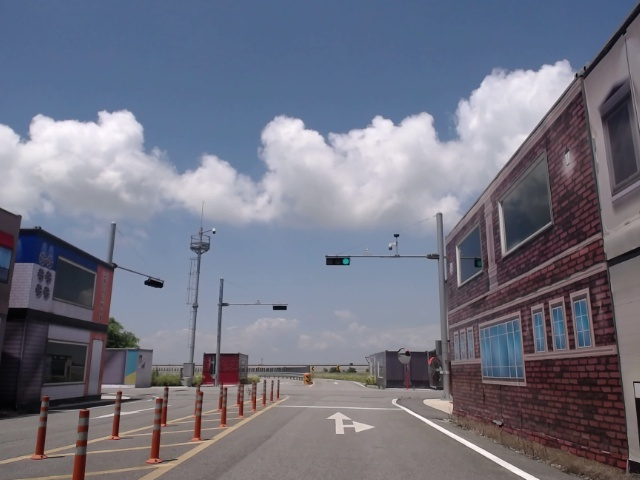green_3: (328, 257, 350, 265)
